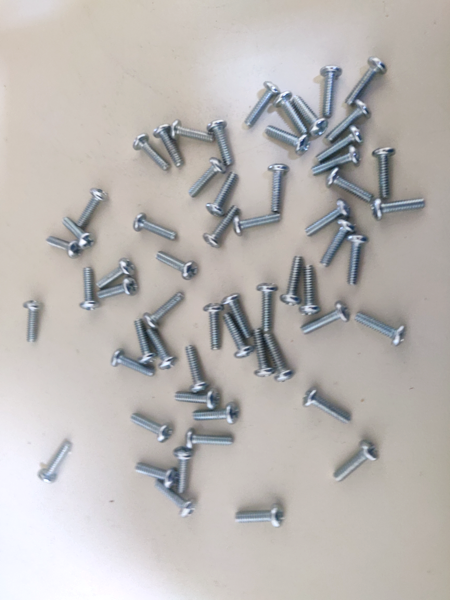shortscrew: (332, 440, 381, 483), (346, 56, 388, 105), (327, 99, 372, 143), (302, 387, 352, 425), (315, 125, 364, 163), (355, 312, 408, 347), (299, 301, 351, 335), (325, 167, 374, 203), (304, 200, 351, 237), (320, 219, 356, 267), (245, 81, 280, 128), (154, 480, 197, 518), (143, 292, 186, 330), (311, 144, 360, 177), (188, 158, 227, 199), (203, 205, 240, 248), (37, 441, 73, 485), (206, 171, 239, 218), (264, 332, 294, 383), (131, 133, 171, 171), (224, 312, 256, 359), (223, 293, 254, 339), (274, 91, 307, 134), (146, 327, 178, 371), (293, 96, 328, 136), (207, 119, 236, 167), (264, 126, 312, 155), (130, 412, 173, 443), (110, 349, 155, 378), (279, 255, 304, 307), (134, 212, 178, 241), (154, 125, 183, 169), (96, 258, 137, 289), (78, 189, 108, 231), (155, 252, 198, 281), (233, 212, 281, 237), (320, 66, 343, 118), (373, 147, 396, 199), (373, 199, 426, 221), (192, 402, 240, 426), (135, 463, 179, 489), (256, 283, 279, 332), (299, 265, 321, 316), (186, 345, 209, 393), (134, 319, 158, 365), (235, 505, 285, 527), (268, 164, 290, 212), (62, 217, 96, 248), (347, 235, 368, 285), (203, 303, 224, 352), (171, 119, 215, 142), (255, 328, 275, 378), (186, 429, 233, 450), (21, 300, 43, 344), (79, 267, 101, 311), (97, 277, 139, 300), (173, 445, 192, 494), (175, 390, 221, 410), (46, 235, 82, 259)
